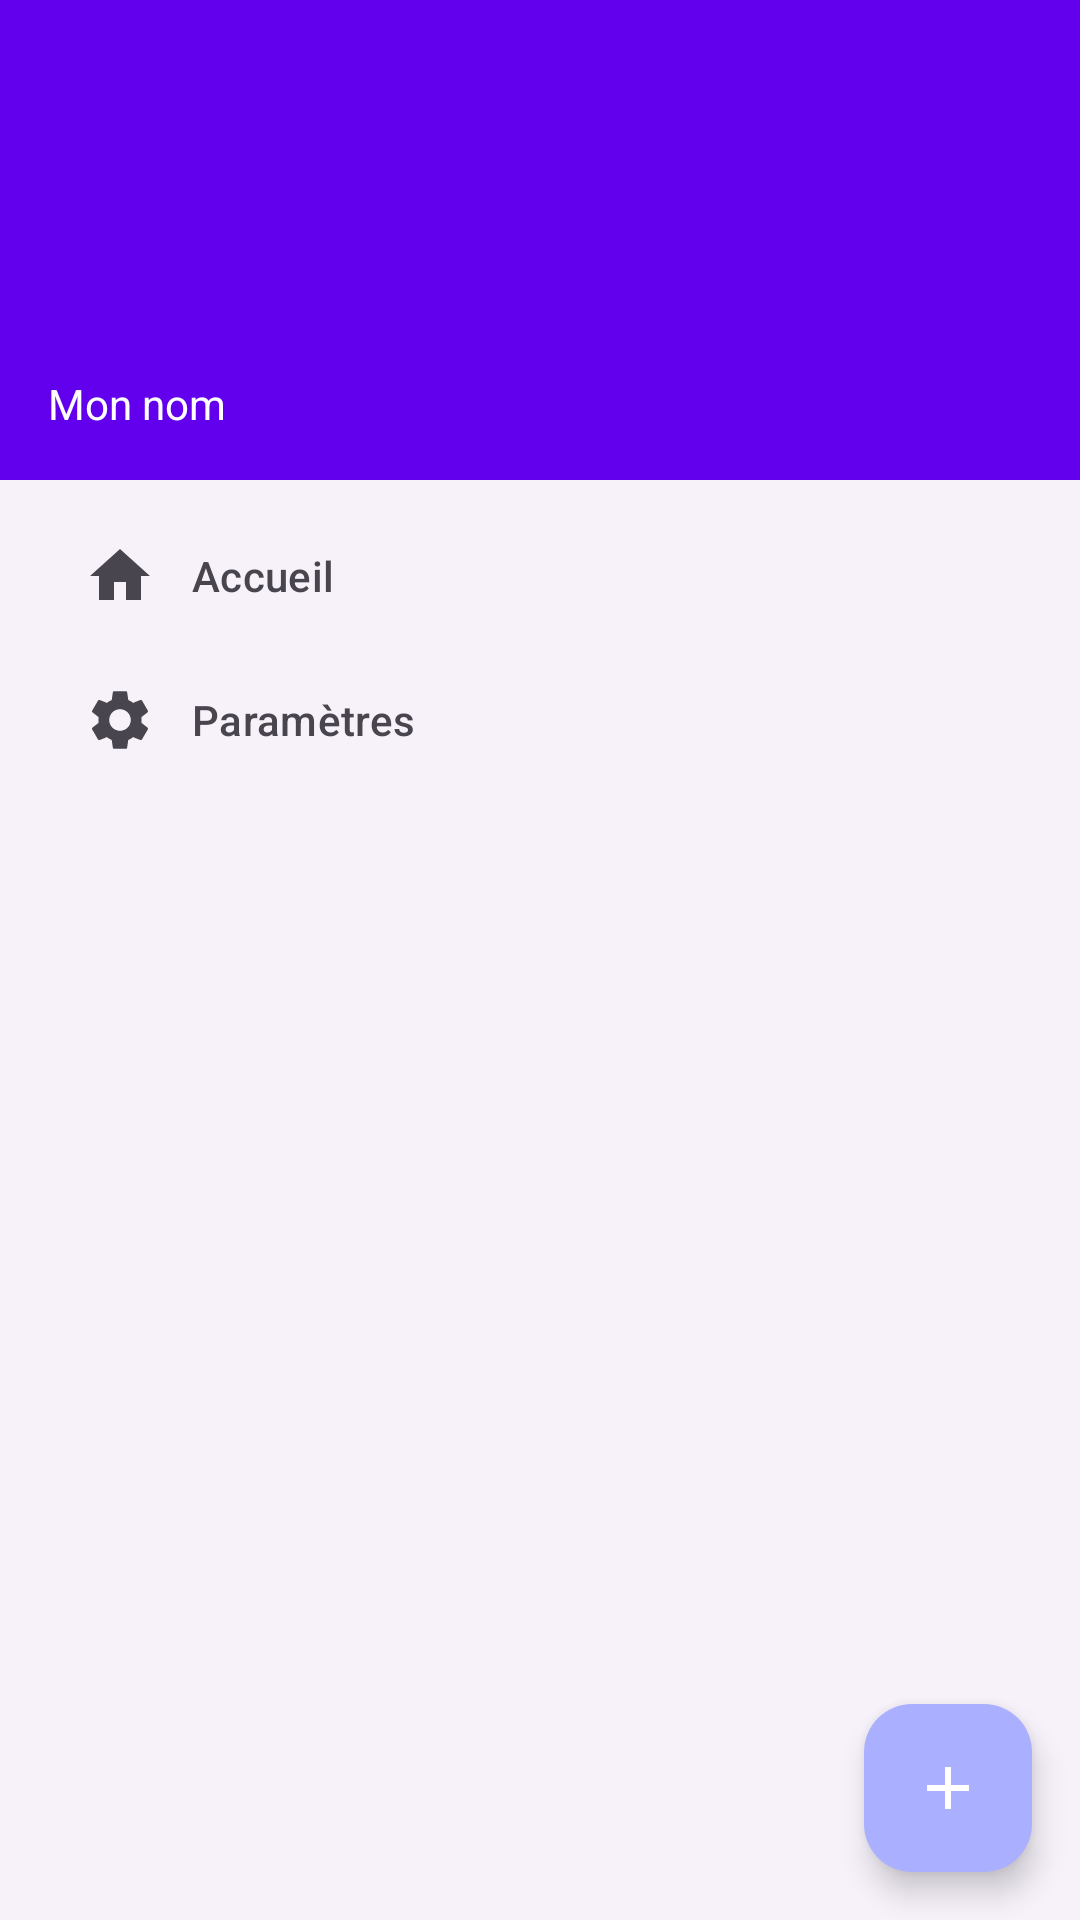

Icons on this 1080*1920 Android screen, each with its box as region(x1, y1, x2, y2):
Ajouter une annonce: region(864, 1704, 1032, 1872)
